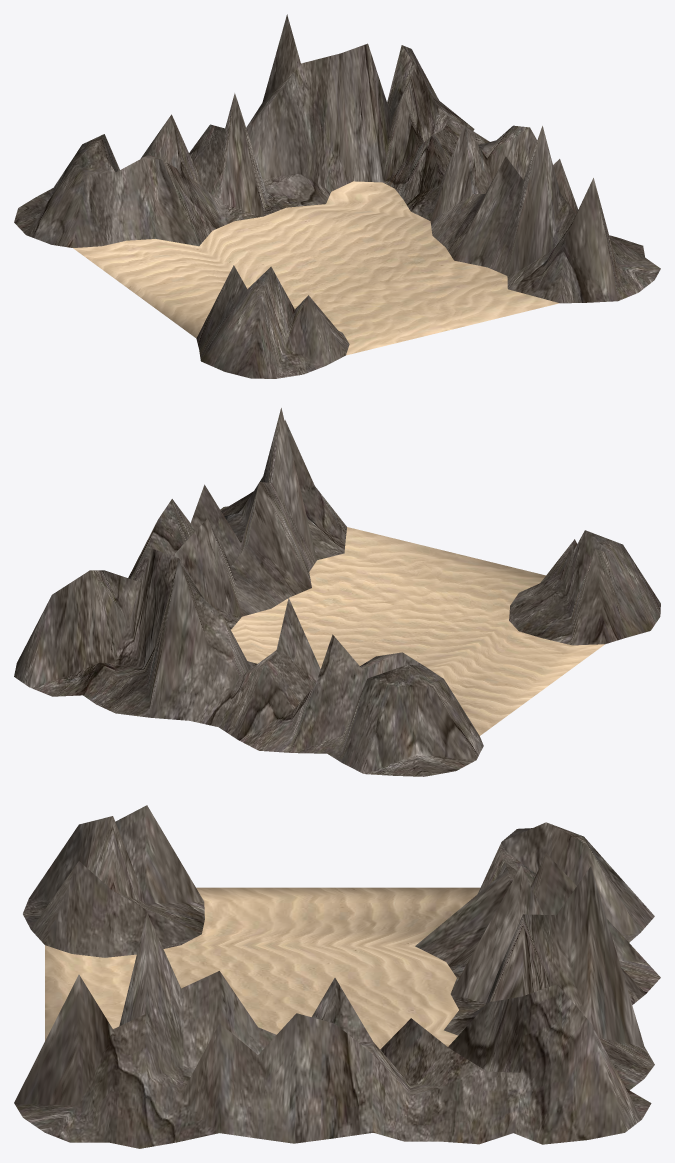
Rendered from cornerroad.fbx.
3 views of the same model, one above another, from view 1: azimuth 30°, elevation 25°; view 2: azimuth 150°, elevation 25°; view 3: azimuth 270°, elevation 25° (orthographic). The views are drawn at different scales.
Parts seen in each view (by area): view 1: cornerroad; view 2: cornerroad; view 3: cornerroad.
Part boxes in pixels (bbox=[...]): cornerroad: bbox=[14, 14, 660, 378]; cornerroad: bbox=[14, 408, 660, 776]; cornerroad: bbox=[14, 805, 660, 1148].
Bounding box in the file's own units: 560 × 168 × 558.
